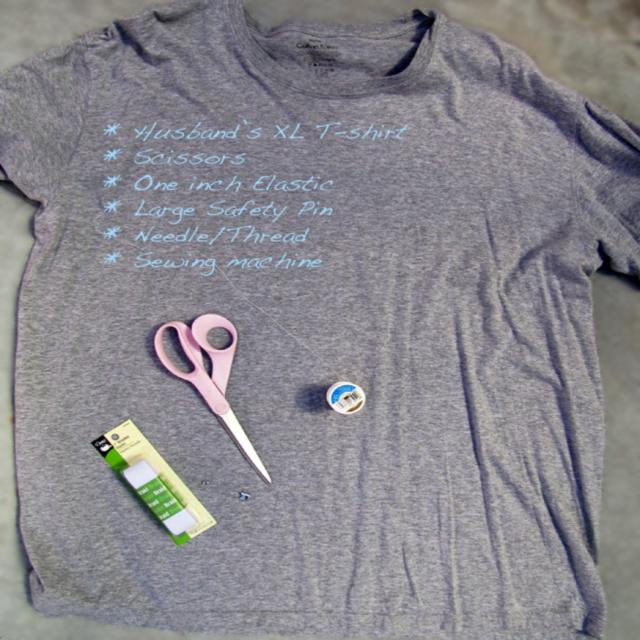scissors: (152, 312, 272, 484)
